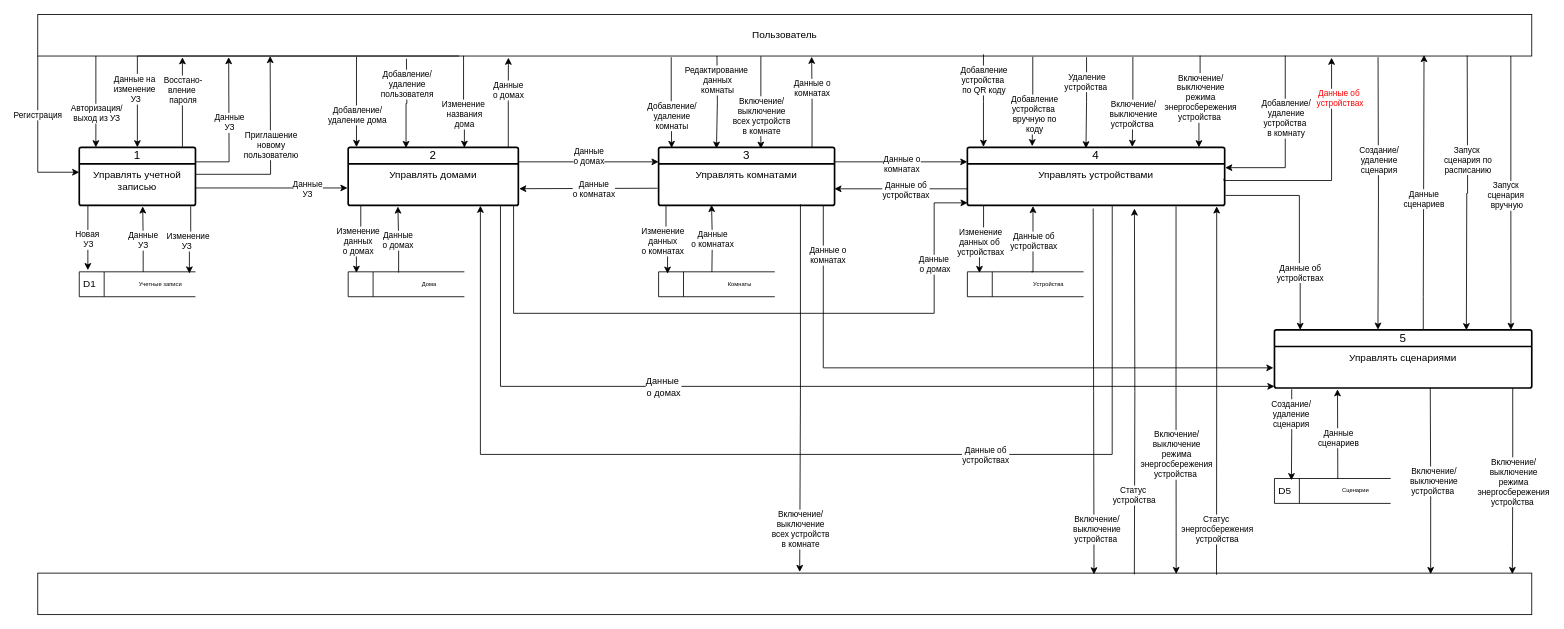
This 1564x629 diagram has some shape labels left out. Here are the shapes that lost their labels. From the top down, the box of each, then its label:
(347, 271, 464, 297): D2
(658, 271, 775, 297): D3
(967, 271, 1084, 297): D4
(37, 572, 1532, 615): Устройство
